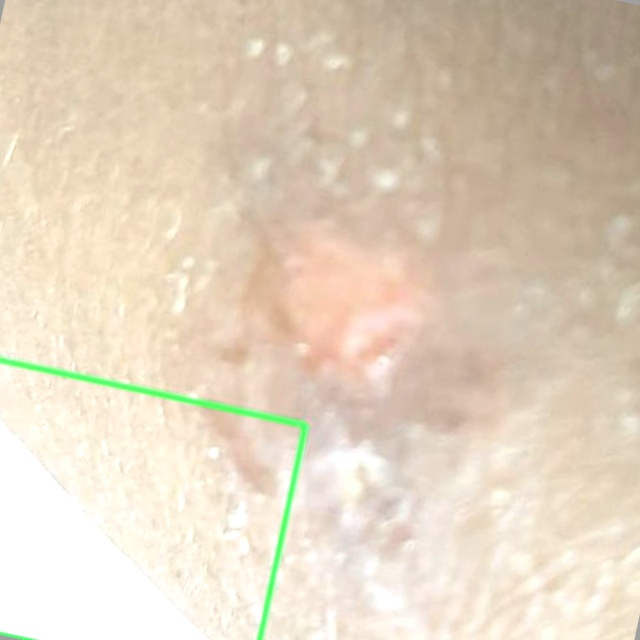Eczema: (0, 360, 305, 639)
